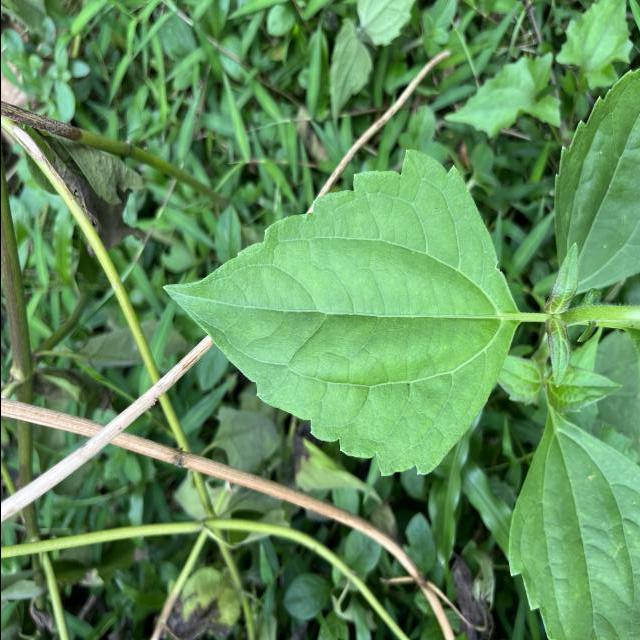Chromolaena odorata: (154, 143, 523, 484)
